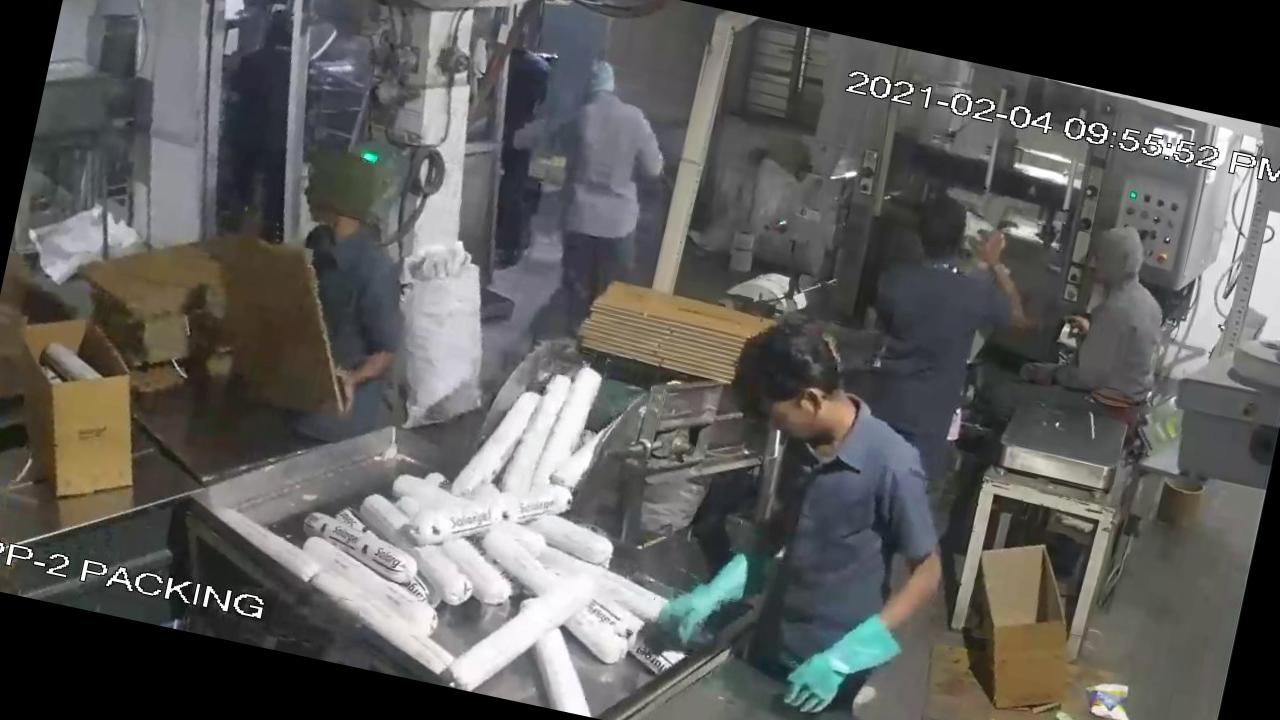Gloves: (632, 522, 792, 669), (764, 592, 927, 720)
No-gloves: (940, 210, 1066, 371), (282, 313, 434, 430)
